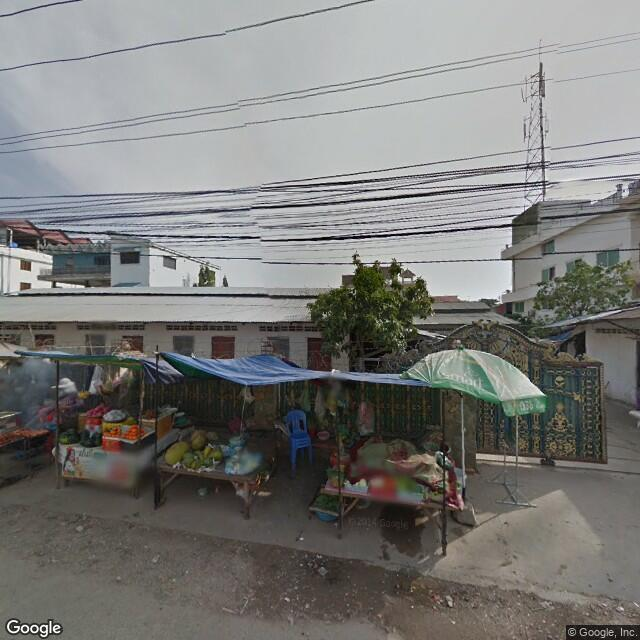litter: (283, 589, 294, 612)
